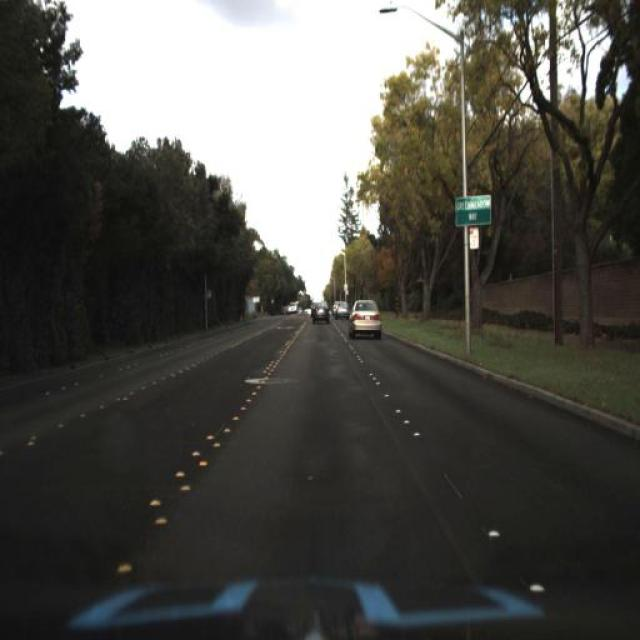car: (347, 292, 382, 342), (332, 294, 353, 324), (310, 299, 330, 330), (336, 300, 350, 320)
